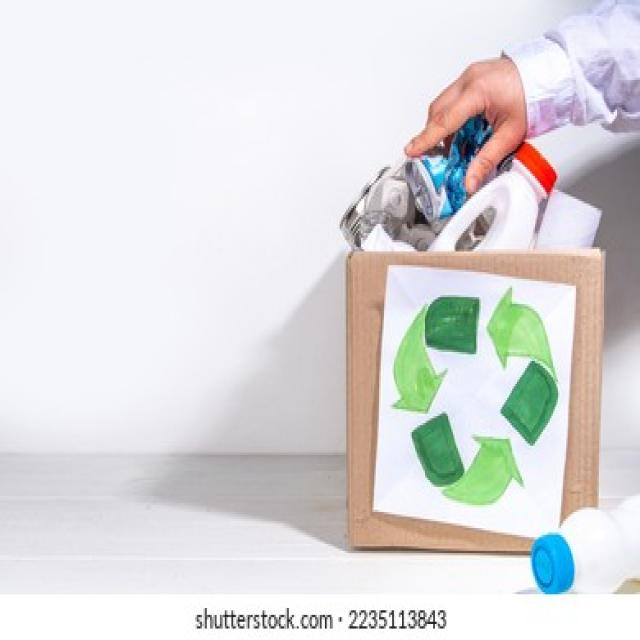cardboard: (338, 249, 619, 526)
plastic: (525, 501, 640, 594)
trash: (352, 153, 600, 277)
